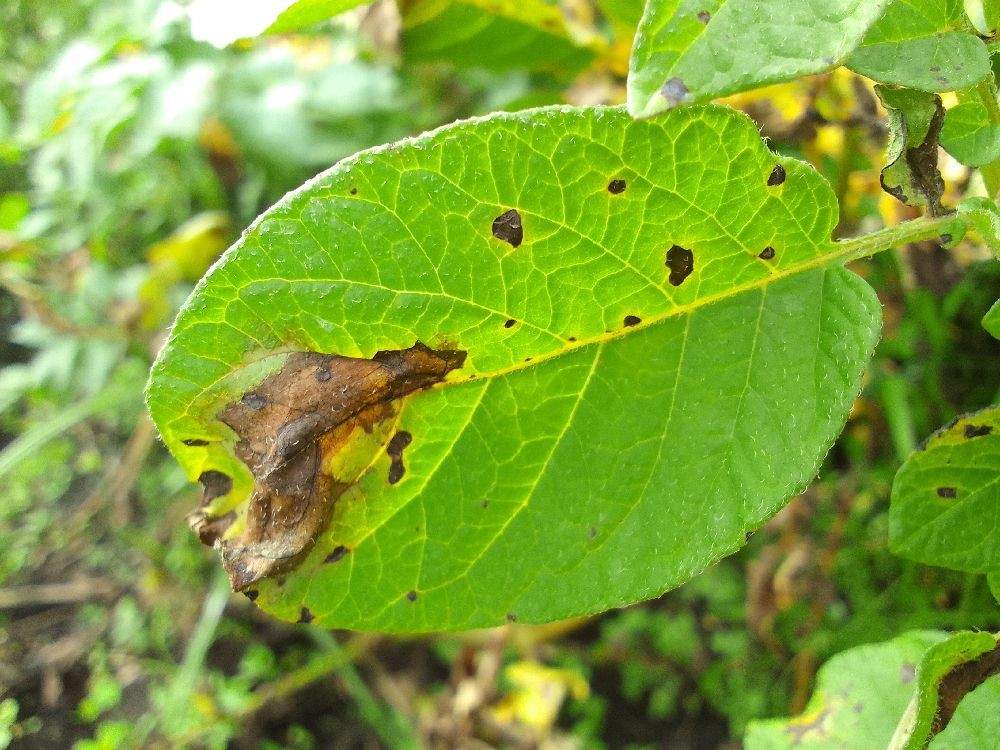late_blight: (0, 325, 484, 749), (701, 44, 1000, 269), (863, 222, 1000, 349)
